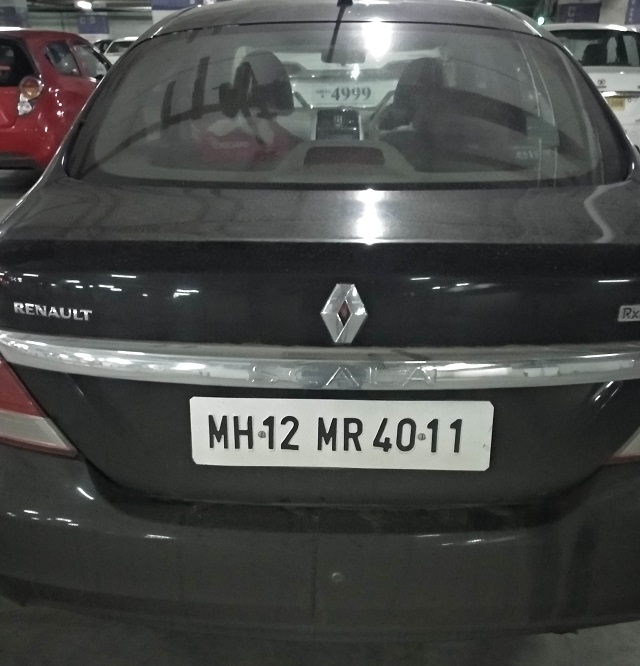licenseplate: (187, 392, 500, 476)
